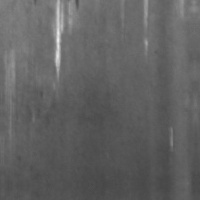scratches: (51, 0, 66, 82), (141, 0, 151, 57)
